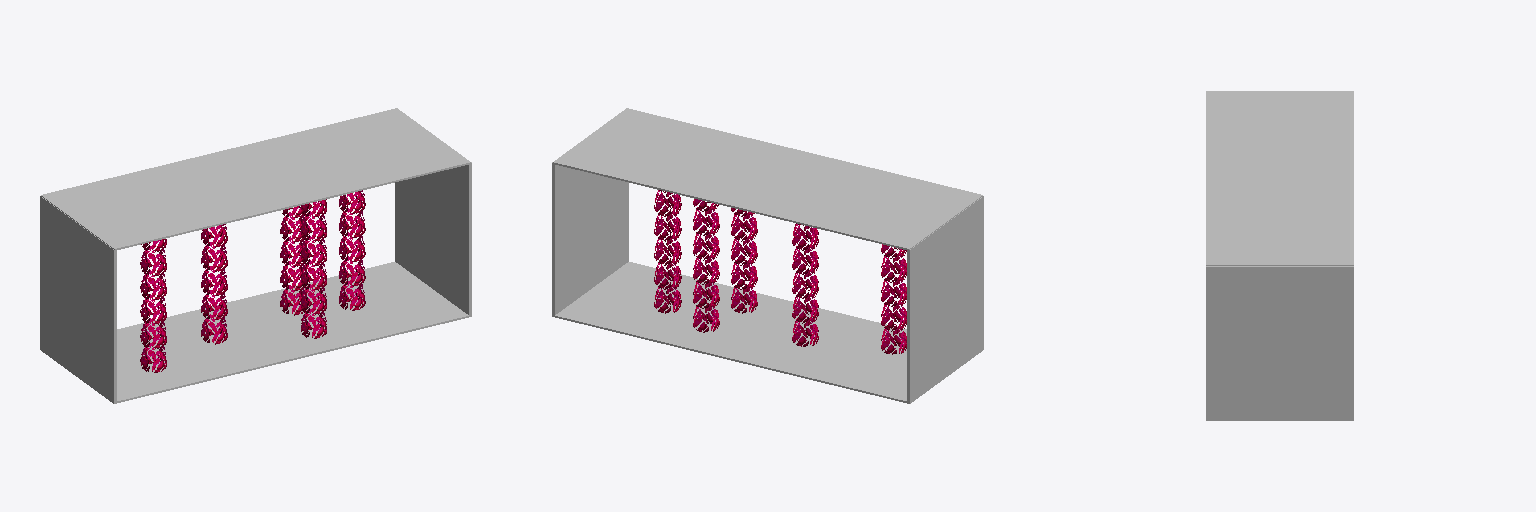
The picture shows the model from 3 angles: view 1: azimuth 30°, elevation 25°; view 2: azimuth 150°, elevation 25°; view 3: azimuth 270°, elevation 25°; orthographic projection.
Visible parts, largest first — view 1: Cube.009, Cube, Cube.003_Cube.002, Cube.002_Cube.001, Cube.005, Cube.008, Cube.004, Cube.007, Cube.006; view 2: Cube.009, Cube, Cube.003_Cube.002, Cube.002_Cube.001, Cube.006, Cube.004, Cube.007, Cube.008, Cube.005; view 3: Cube.009, Cube.002_Cube.001.
Part boxes in pixels (x1,y1,x2,y2): Cube.009: (41,108,470,249); Cube: (115,262,470,403); Cube.003_Cube.002: (40,196,116,403); Cube.002_Cube.001: (395,113,471,316); Cube.005: (301,199,326,338); Cube.008: (140,239,166,372); Cube.004: (339,190,365,310); Cube.007: (201,224,227,344); Cube.006: (280,206,304,315); Cube.009: (553,108,982,249); Cube: (553,262,908,403); Cube.003_Cube.002: (907,196,983,403); Cube.002_Cube.001: (552,113,628,316); Cube.006: (693,199,719,332); Cube.004: (654,190,681,313); Cube.007: (792,223,818,346); Cube.008: (881,244,906,354); Cube.005: (731,208,757,313); Cube.009: (1206,91,1353,265); Cube.002_Cube.001: (1206,266,1353,420).
Size of the model in its own units: 76.55 by 31.64 by 27.38.
11 materials, 3 textured.